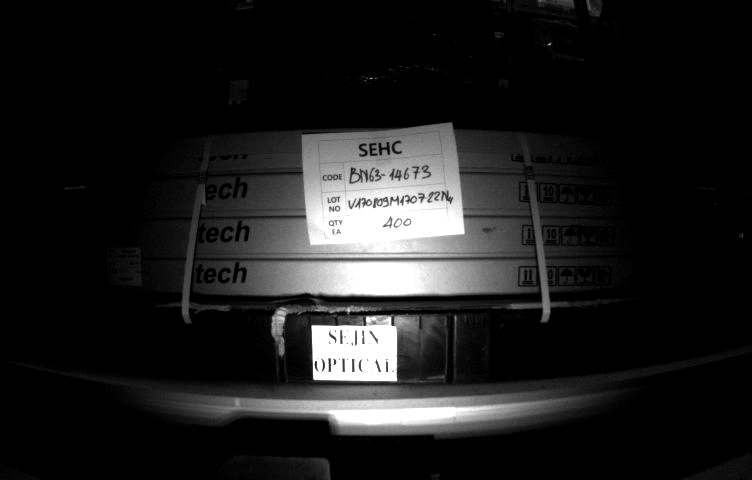True Barcode: (99, 242, 143, 283)
